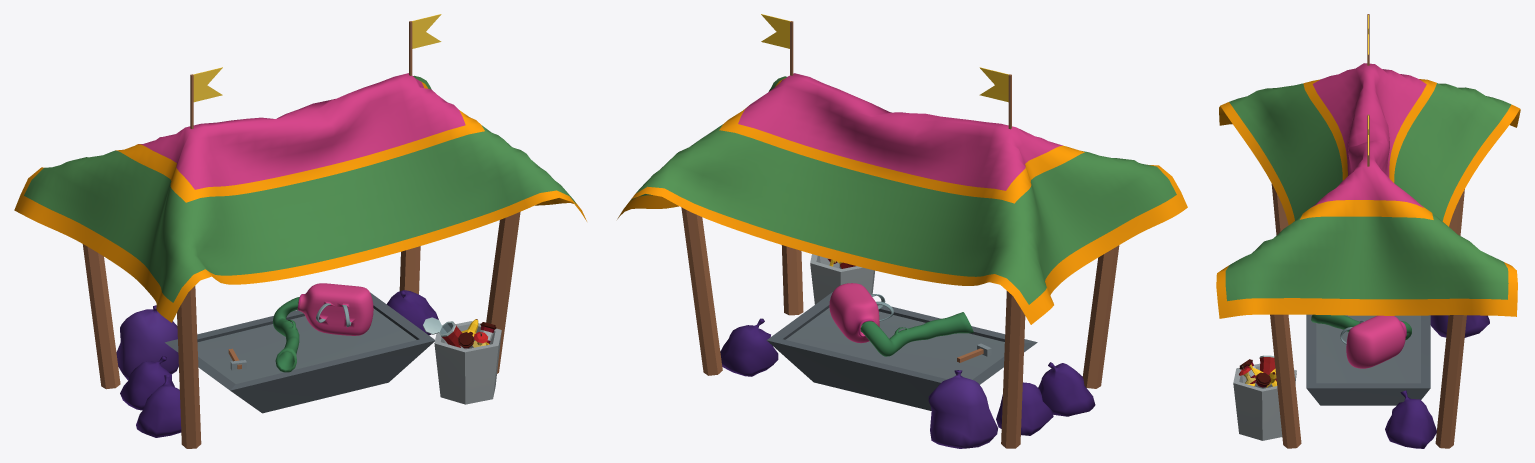
The model's file is shop.fbx.
3 renders of one model, left to right at view 1: azimuth 30°, elevation 25°; view 2: azimuth 150°, elevation 25°; view 3: azimuth 270°, elevation 25°, orthographic. The views are drawn at different scales.
Parts seen in each view (by area): view 1: Plane, Cube.001, Cylinder, Stickman_backpack, Cylinder.001, garbageBag, garbageBag.002, Cube, garbageBag.001, garbageBag.003, can-beans-open; view 2: Plane, Cube.001, Cylinder, Stickman_backpack, garbageBag, garbageBag.003, garbageBag.002, Cylinder.001, Cube, garbageBag.001; view 3: Plane, Cube.001, Cylinder, Stickman_backpack, Cylinder.001, garbageBag.003, garbageBag, Cube.
Part boxes in pixels (x1=…): Plane: x1=14, y1=73, x2=586, y2=322; Cube.001: x1=165, y1=292, x2=434, y2=413; Cylinder: x1=82, y1=212, x2=520, y2=448; Stickman_backpack: x1=273, y1=283, x2=373, y2=372; Cylinder.001: x1=434, y1=321, x2=501, y2=404; garbageBag: x1=116, y1=305, x2=178, y2=380; garbageBag.002: x1=136, y1=375, x2=181, y2=437; Cube: x1=190, y1=14, x2=441, y2=128; garbageBag.001: x1=120, y1=356, x2=174, y2=410; garbageBag.003: x1=386, y1=290, x2=438, y2=335; can-beans-open: x1=423, y1=317, x2=462, y2=347; Plane: x1=617, y1=73, x2=1187, y2=324; Cube.001: x1=766, y1=292, x2=1037, y2=410; Cylinder: x1=681, y1=207, x2=1119, y2=448; Stickman_backpack: x1=829, y1=283, x2=973, y2=356; garbageBag: x1=928, y1=370, x2=997, y2=448; garbageBag.003: x1=720, y1=318, x2=778, y2=376; garbageBag.002: x1=1038, y1=362, x2=1095, y2=416; Cylinder.001: x1=810, y1=254, x2=874, y2=304; Cube: x1=761, y1=14, x2=1011, y2=129; garbageBag.001: x1=996, y1=382, x2=1053, y2=435; Plane: x1=1216, y1=63, x2=1520, y2=318; Cube.001: x1=1306, y1=314, x2=1430, y2=405; Cylinder: x1=1270, y1=184, x2=1466, y2=448; Stickman_backpack: x1=1311, y1=314, x2=1411, y2=368; Cylinder.001: x1=1233, y1=363, x2=1296, y2=440; garbageBag.003: x1=1385, y1=390, x2=1436, y2=448; garbageBag: x1=1430, y1=315, x2=1489, y2=337; Cube: x1=1367, y1=14, x2=1369, y2=166.
Bounding box in the file's own units: 16.18 × 12.15 × 10.6.
Materials: 7 (7 with a texture image).
